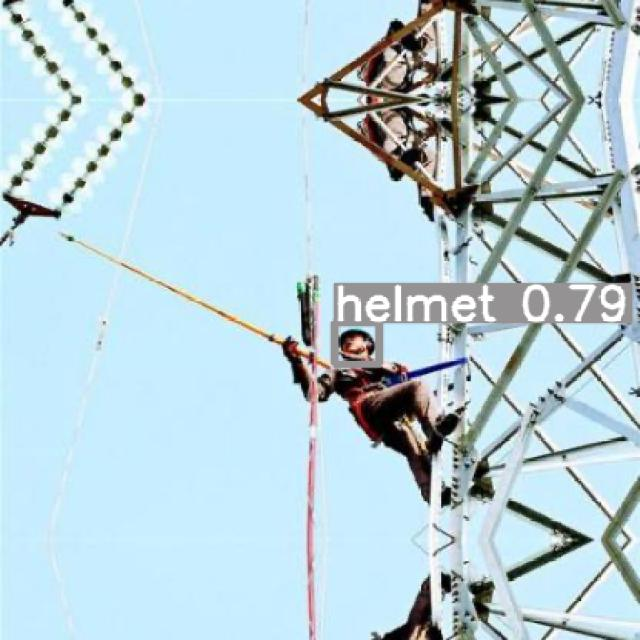helmet: (334, 322, 378, 363)
